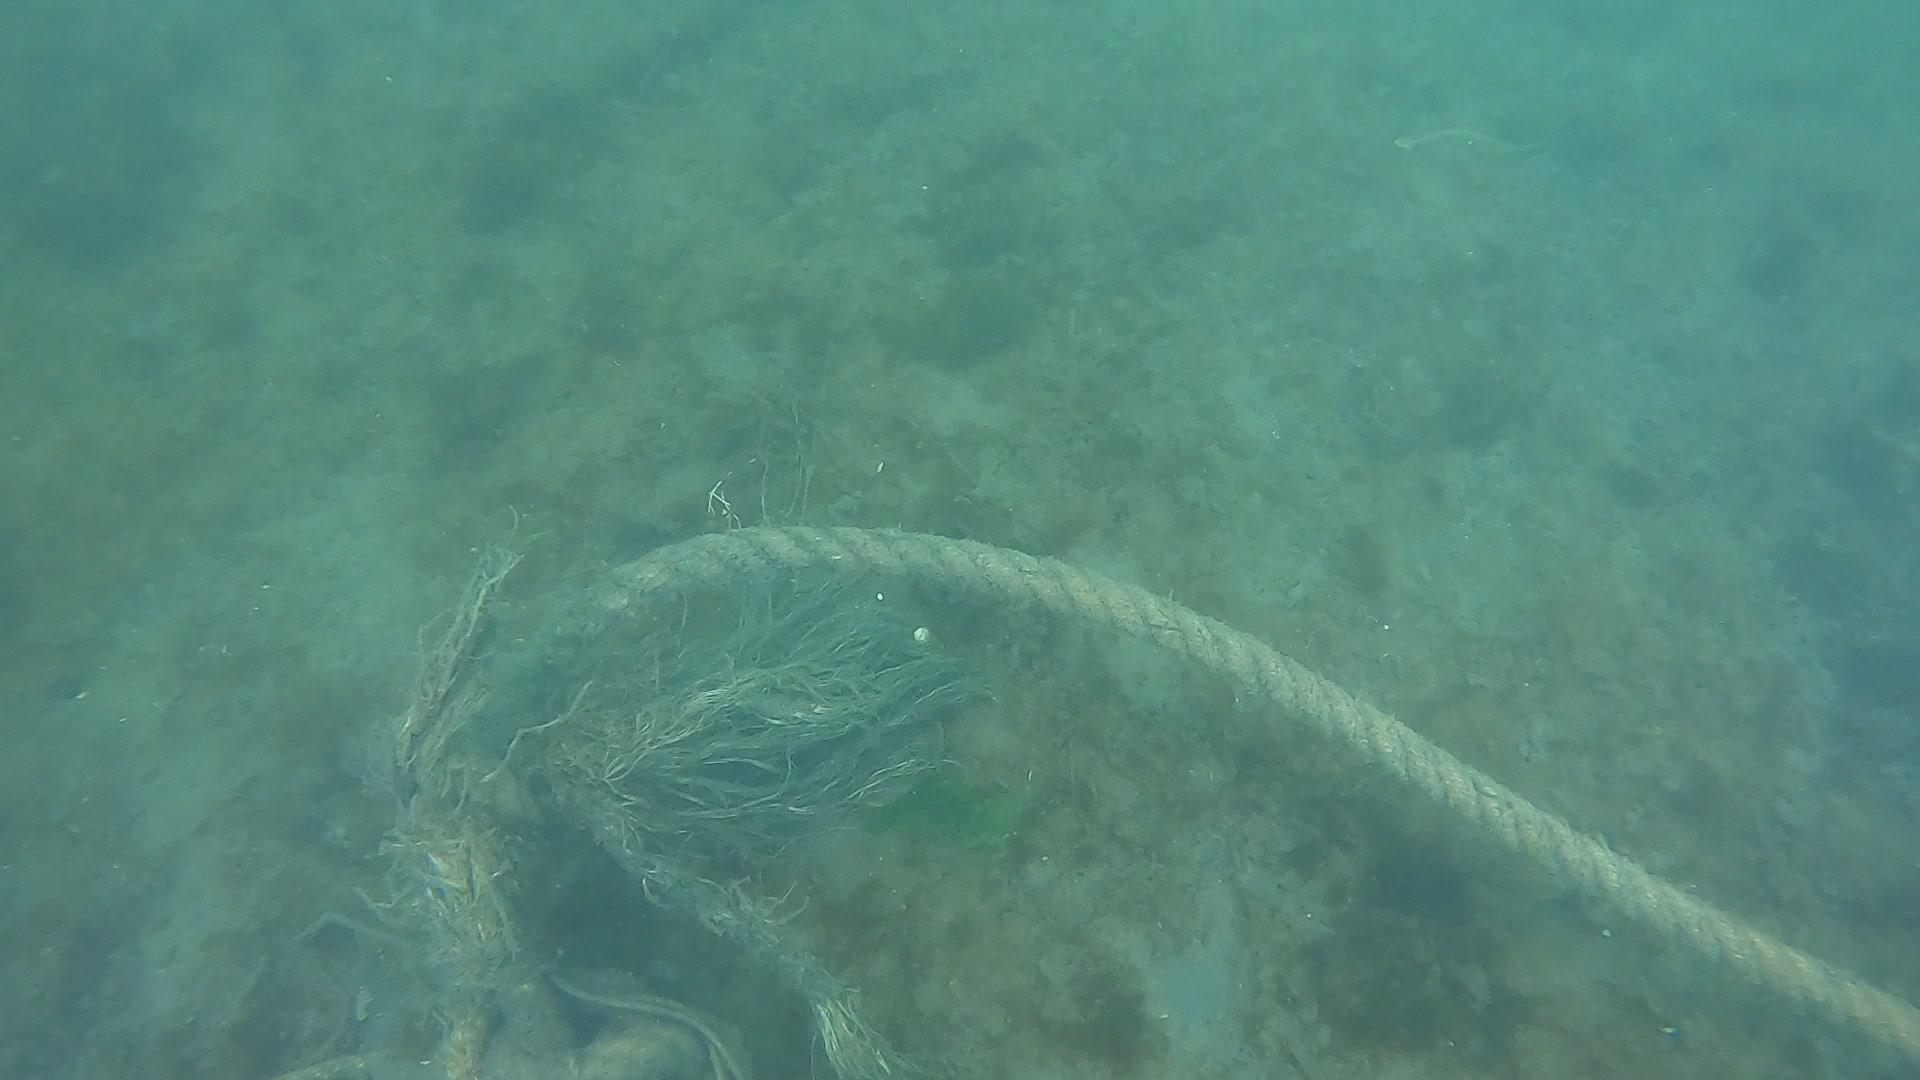bundle of ropes: (555, 512, 1920, 1080)
